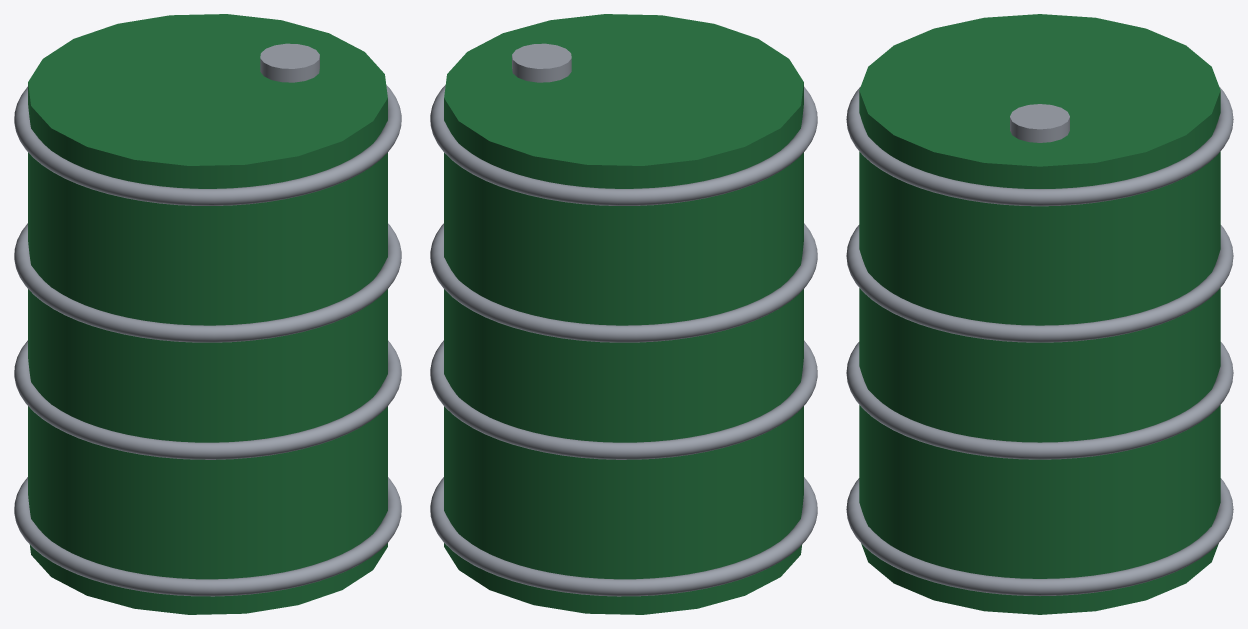
Rendered from drum.glb.
The picture shows the model from 3 angles, left to right: view 1: azimuth 30°, elevation 25°; view 2: azimuth 150°, elevation 25°; view 3: azimuth 270°, elevation 25°; orthographic projection.
Visible parts, largest first — view 1: Body, _MeshInstance3D_2, _MeshInstance3D_3, _MeshInstance3D_4, Rib, Cap; view 2: Body, _MeshInstance3D_2, _MeshInstance3D_3, _MeshInstance3D_4, Rib, Cap; view 3: Body, _MeshInstance3D_4, _MeshInstance3D_3, _MeshInstance3D_2, Rib, Cap.
Part boxes in pixels (left/top/right/bottom): Body: left=28, top=14, right=387, bottom=614; _MeshInstance3D_2: left=14, top=340, right=401, bottom=459; _MeshInstance3D_3: left=14, top=223, right=401, bottom=342; _MeshInstance3D_4: left=14, top=85, right=401, bottom=205; Rib: left=14, top=477, right=401, bottom=596; Cap: left=260, top=43, right=319, bottom=82; Body: left=444, top=14, right=803, bottom=614; _MeshInstance3D_2: left=430, top=340, right=817, bottom=459; _MeshInstance3D_3: left=430, top=223, right=817, bottom=342; _MeshInstance3D_4: left=430, top=85, right=817, bottom=205; Rib: left=430, top=477, right=817, bottom=596; Cap: left=512, top=43, right=571, bottom=82; Body: left=859, top=14, right=1220, bottom=614; _MeshInstance3D_4: left=846, top=87, right=1233, bottom=206; _MeshInstance3D_3: left=846, top=225, right=1233, bottom=342; _MeshInstance3D_2: left=846, top=342, right=1233, bottom=459; Rib: left=846, top=478, right=1233, bottom=595; Cap: left=1010, top=104, right=1069, bottom=142.
Size of what is drawn, in the model's own units: 0.9 by 1.18 by 0.9.
